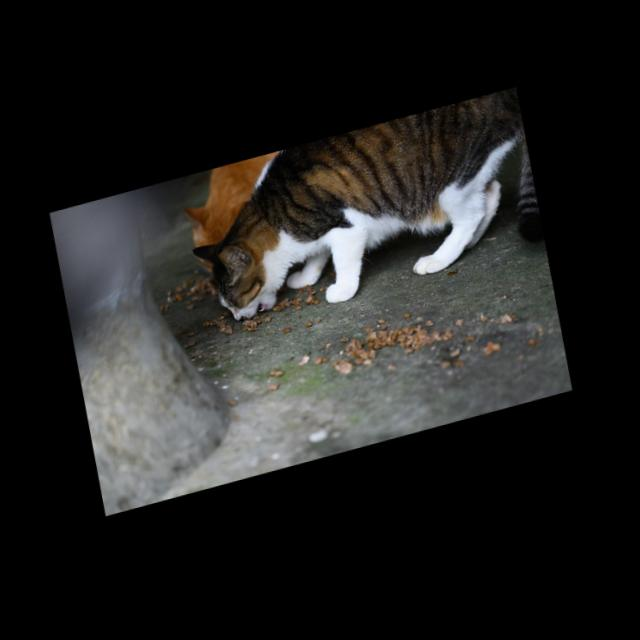animals: (174, 91, 551, 341)
